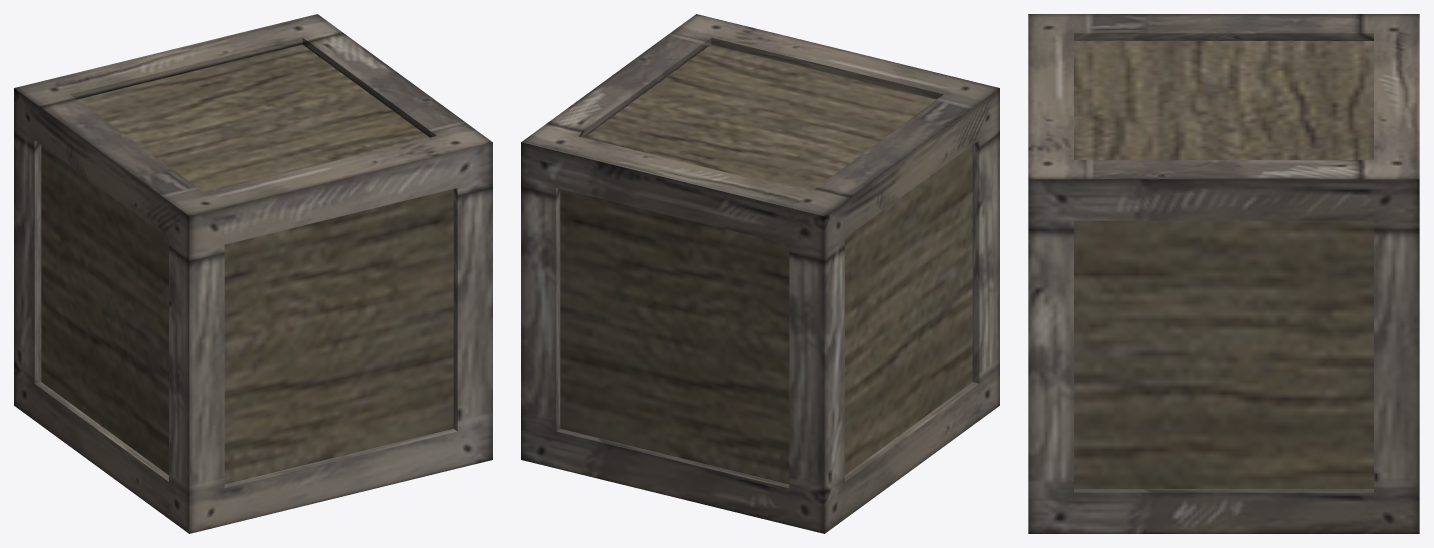
Rendered from crate.fbx.
3 renders of one model, left to right at view 1: azimuth 30°, elevation 25°; view 2: azimuth 150°, elevation 25°; view 3: azimuth 270°, elevation 25°, orthographic. The views are drawn at different scales.
Parts seen in each view (by area): view 1: cofretmaniac; view 2: cofretmaniac; view 3: cofretmaniac.
Part boxes in pixels (box(x1,y1,x2,y2)): cofretmaniac: box(14, 14, 492, 533); cofretmaniac: box(521, 14, 999, 533); cofretmaniac: box(1028, 14, 1419, 533).
Size of the model in its own units: 24.93 by 24.93 by 24.93.
